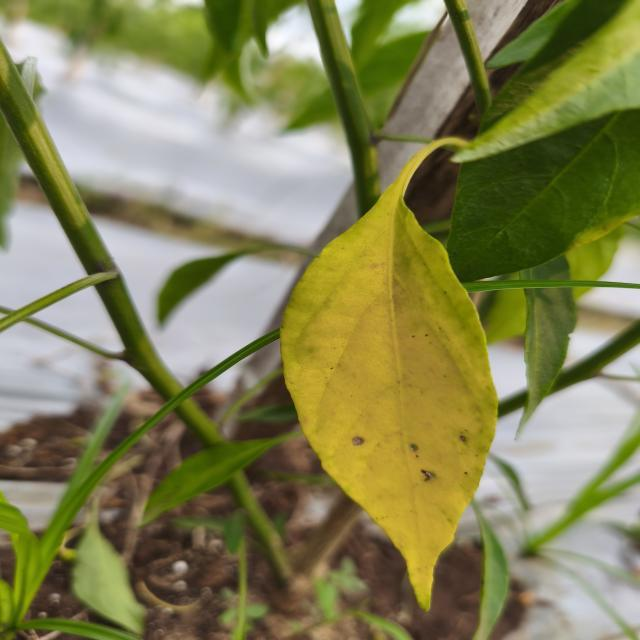Virus Kuning: (279, 184, 502, 610)
